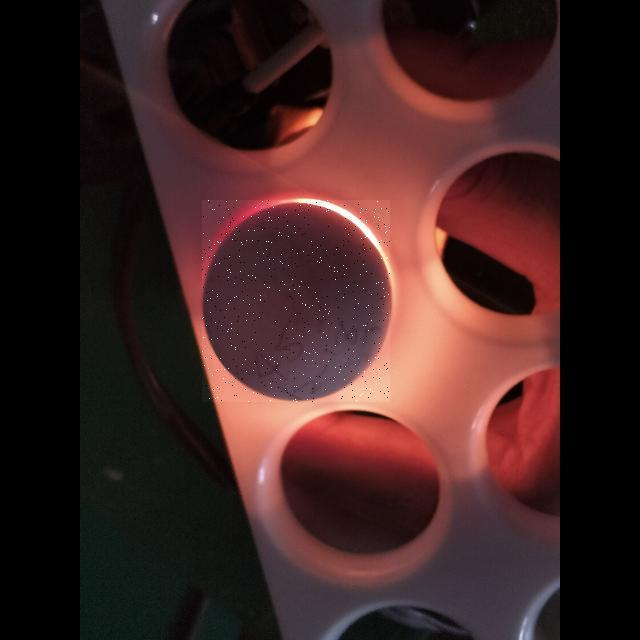A - Good: (203, 200, 396, 400)
